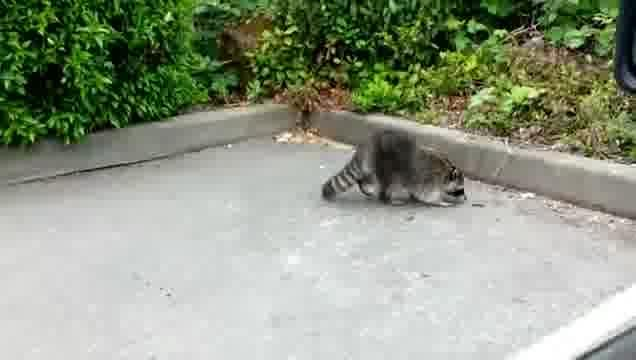raccoon: (321, 127, 469, 212)
